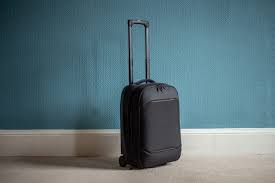suitcase: (116, 18, 182, 172)
